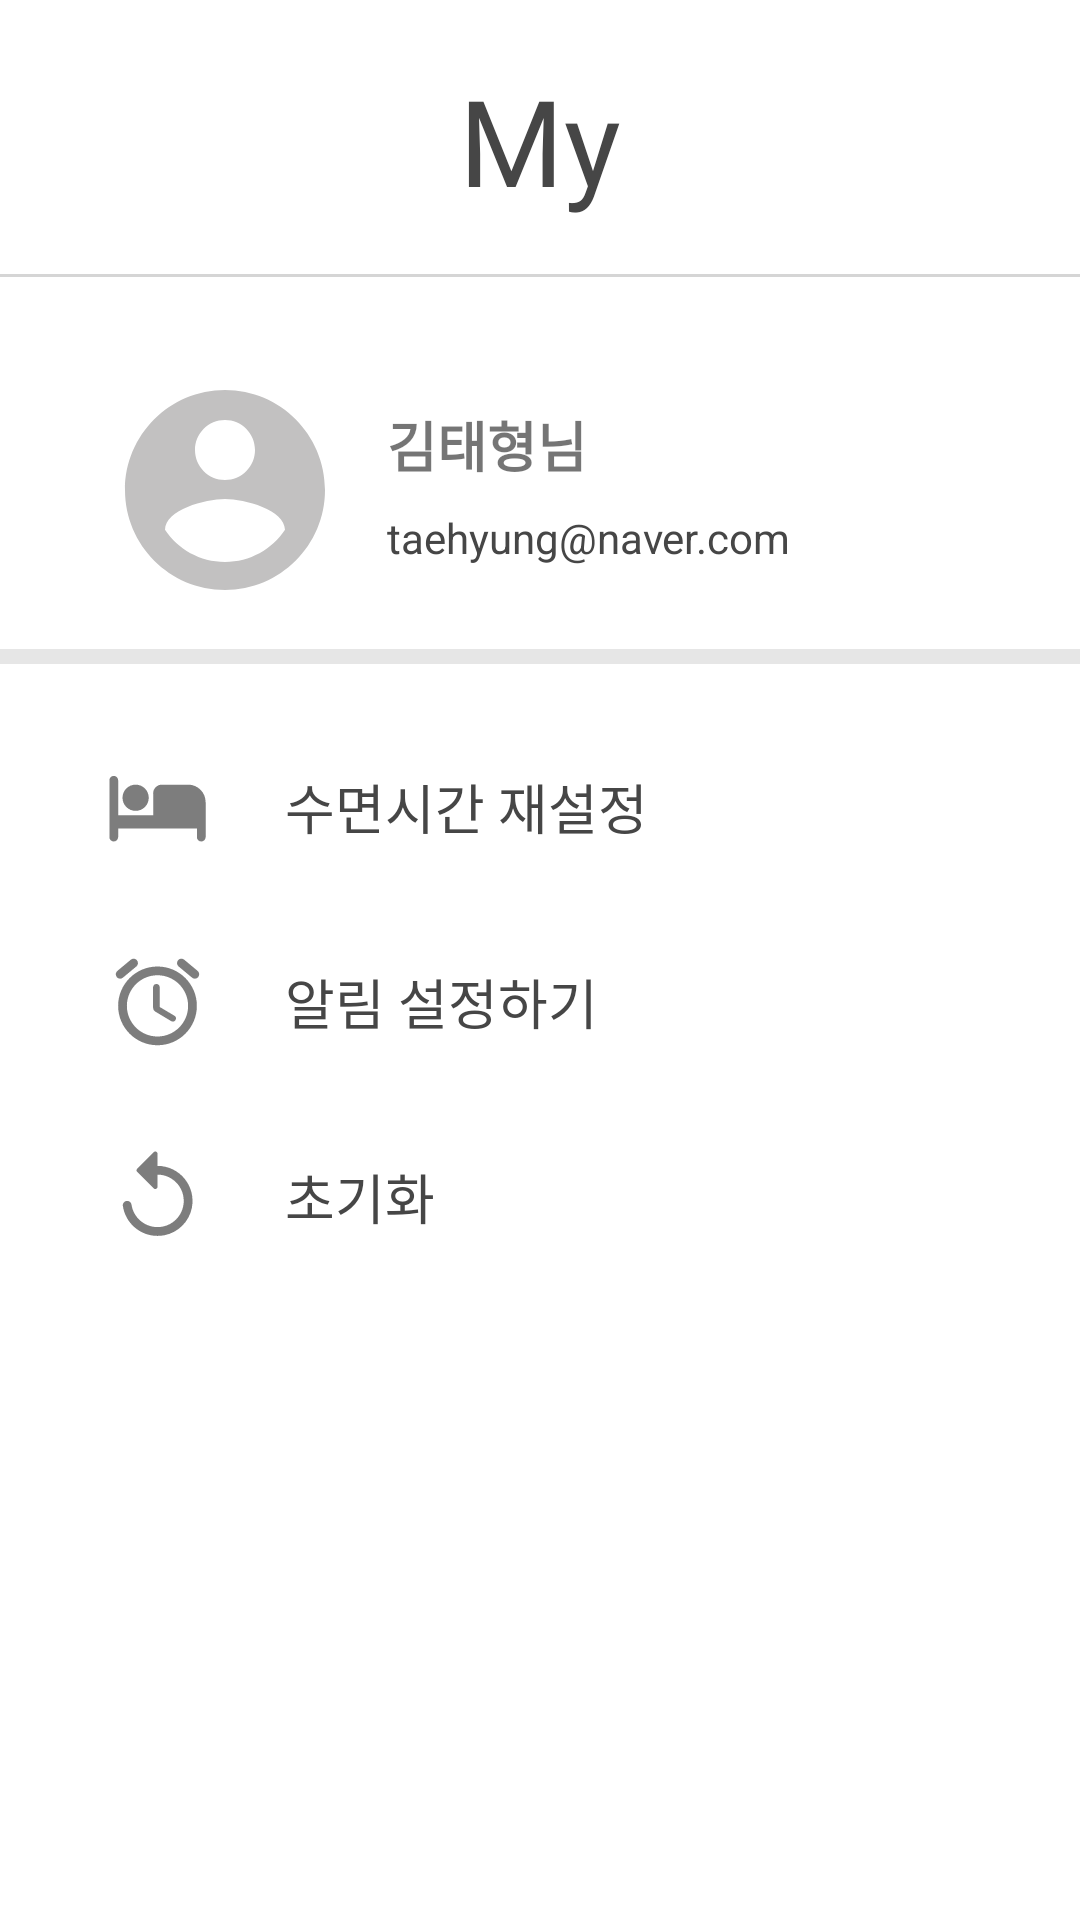

Named icons in this screenshot (1080*1920) and their centers, (x,y):
alarm: (157,1002)
bed: (157,809)
profile: (225,490)
replay: (157,1193)
